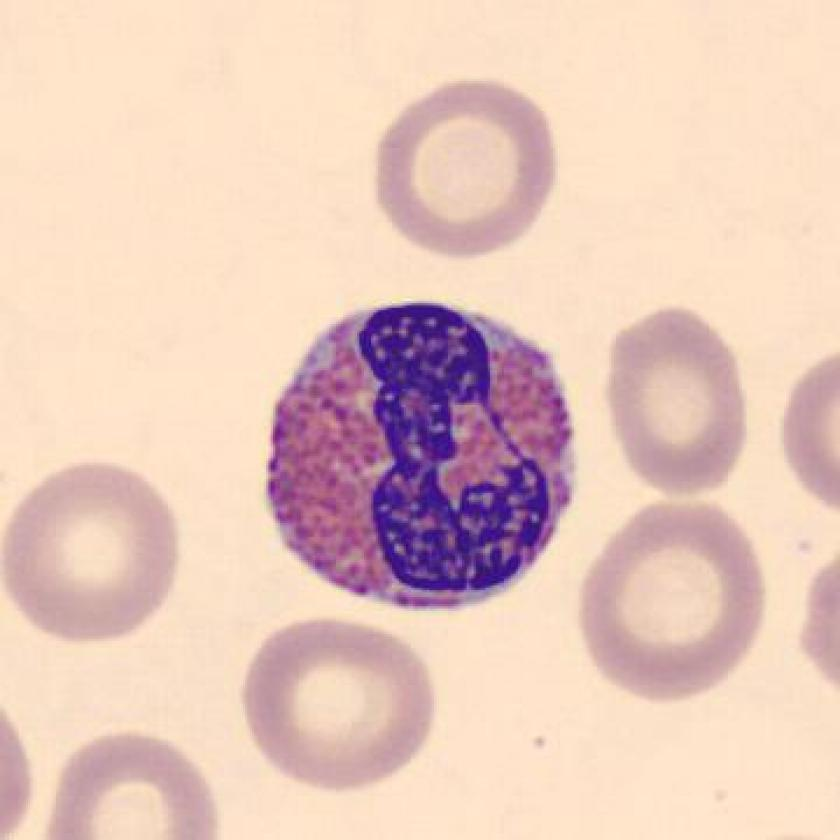eosinophil: (253, 293, 589, 626)
